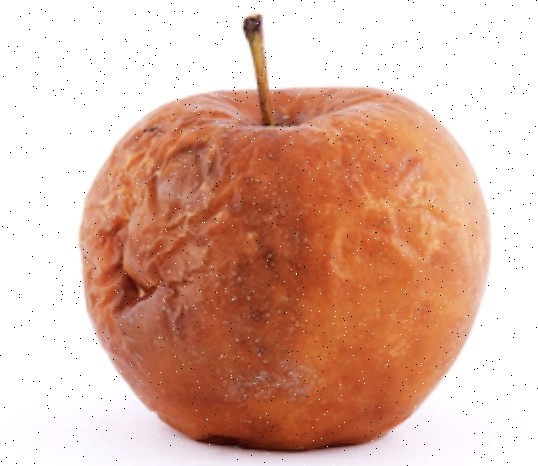rotten_apple: (78, 86, 493, 451)
